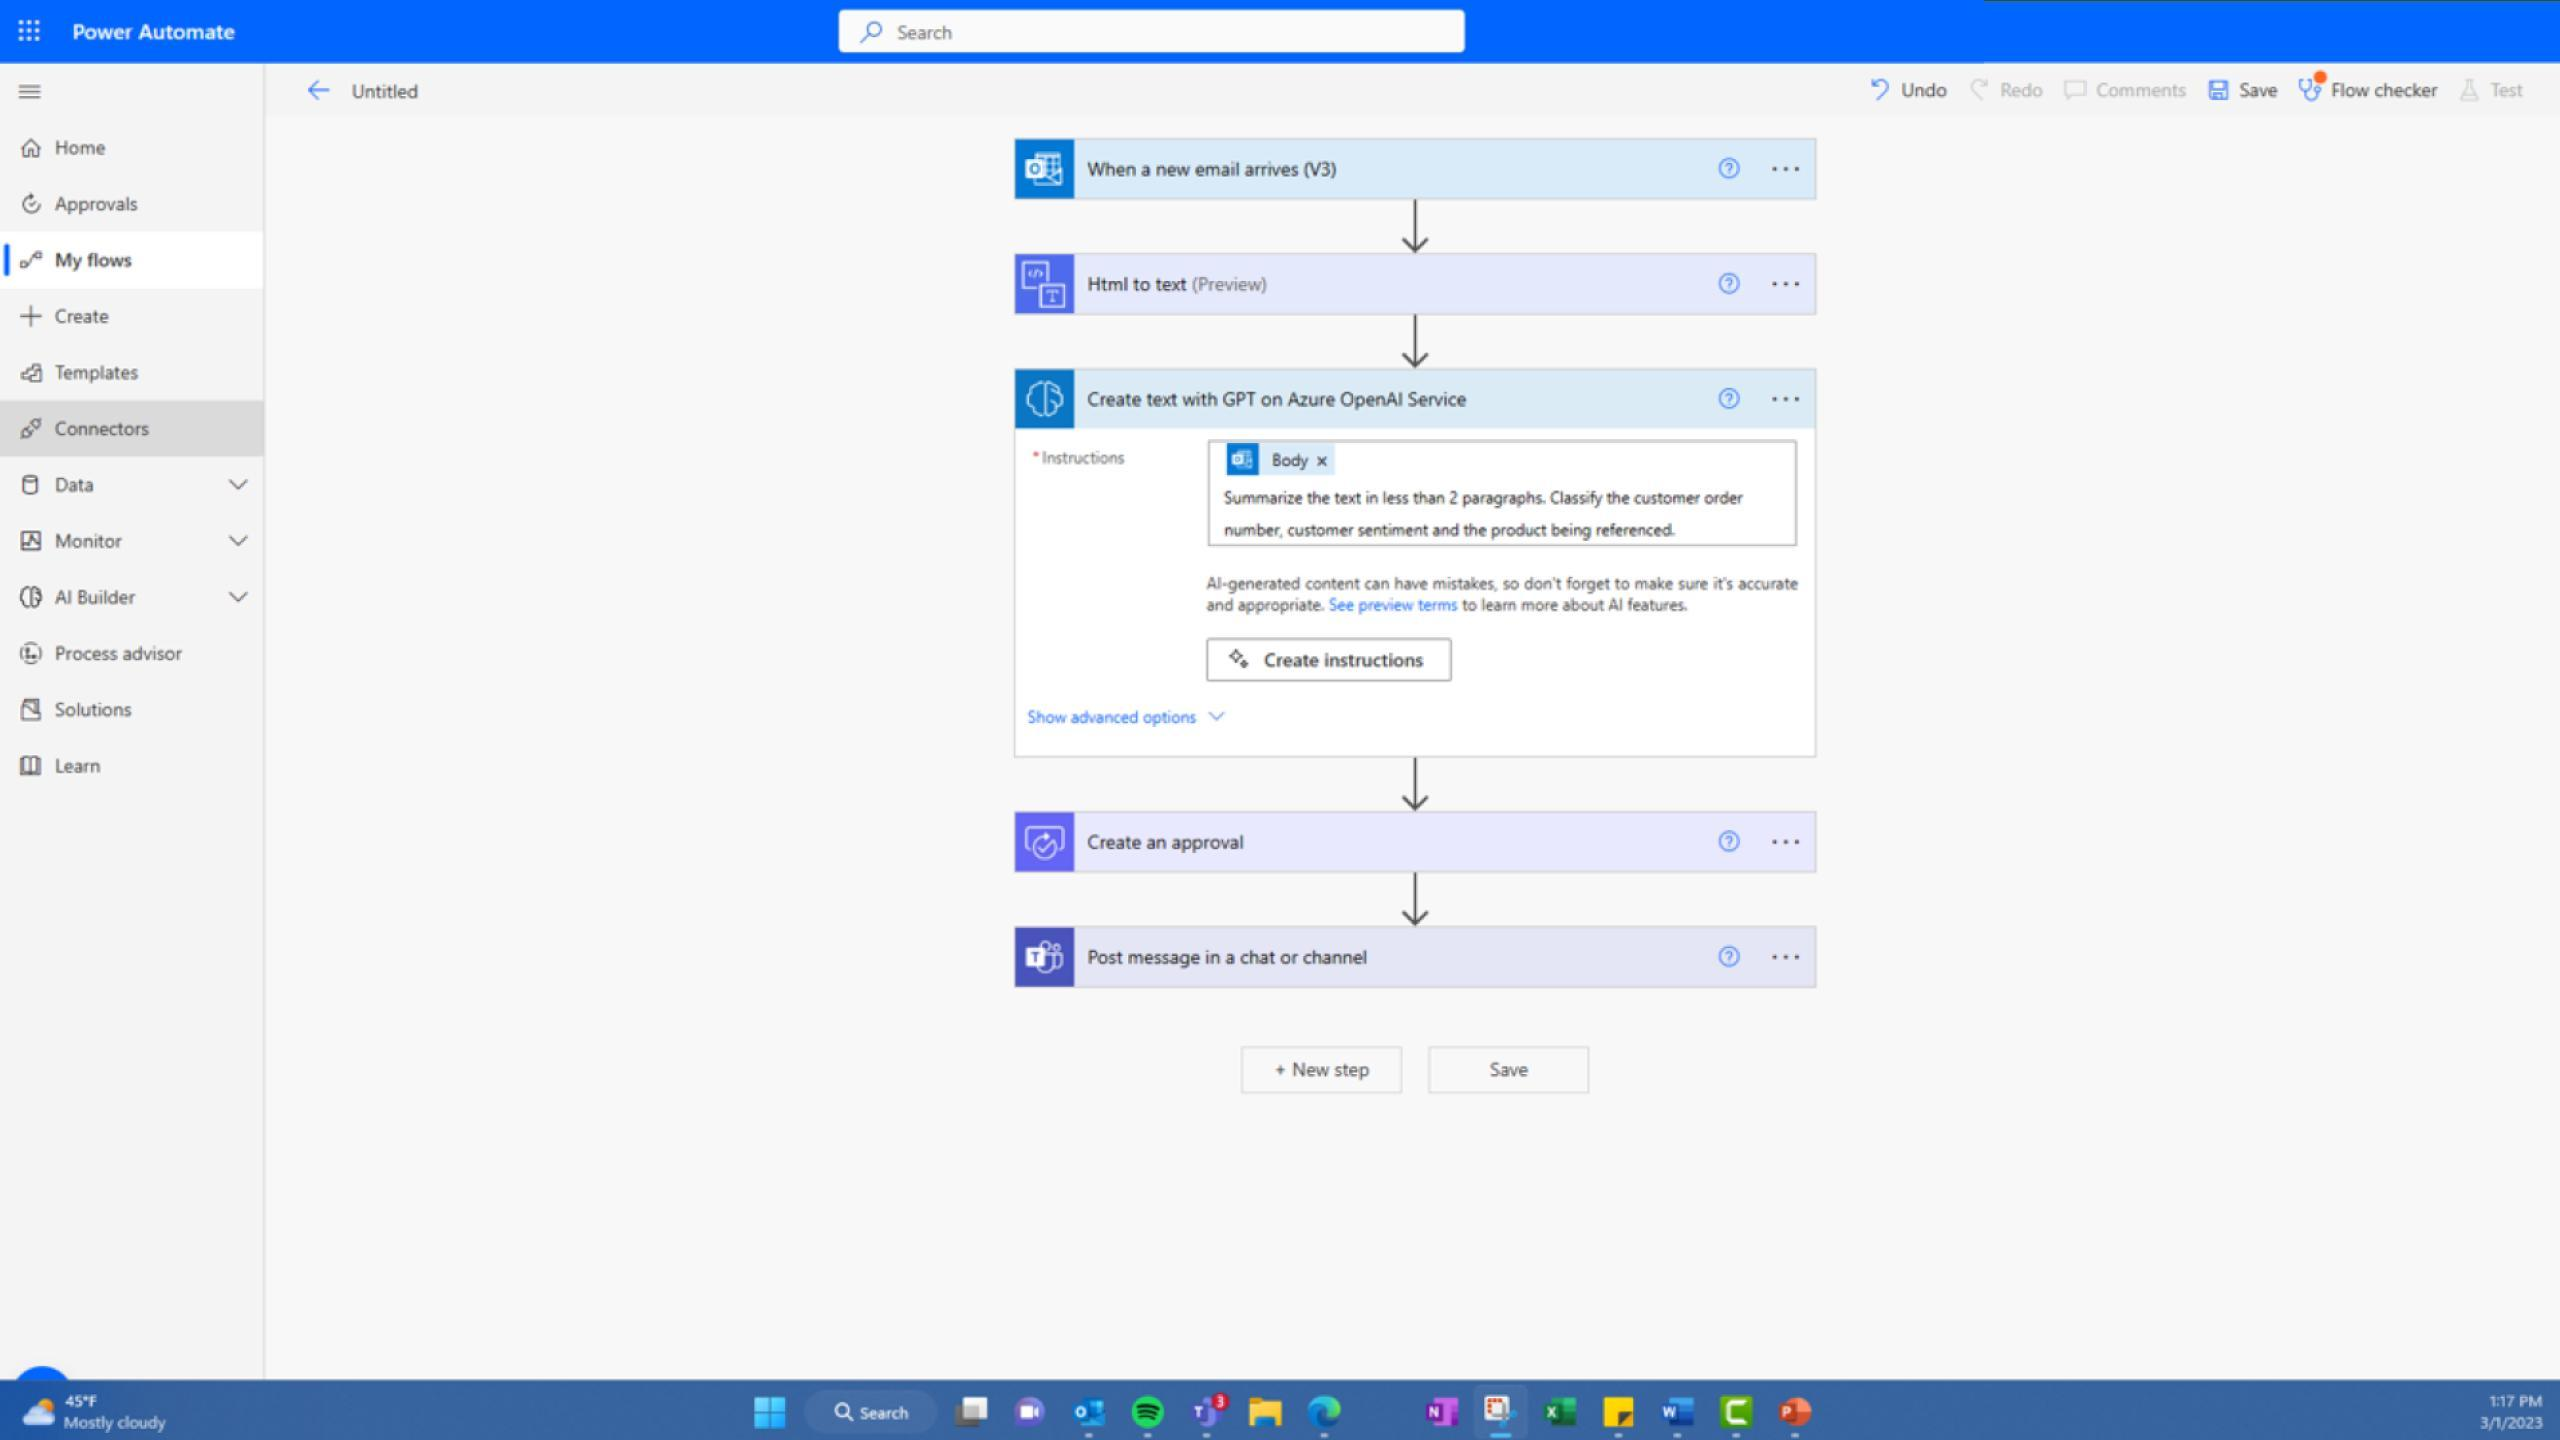button: (2, 399, 265, 457), (2, 232, 264, 288), (1206, 638, 1456, 684), (1428, 1046, 1591, 1097), (1241, 1044, 1407, 1094)
dropdown: (51, 471, 258, 498), (55, 527, 253, 554), (56, 585, 255, 607)
icon: (1718, 269, 1748, 302), (16, 584, 47, 614), (16, 527, 47, 557), (14, 18, 46, 47), (18, 753, 49, 781), (304, 77, 336, 105), (2455, 77, 2484, 105), (19, 696, 47, 726), (19, 638, 47, 668), (18, 302, 46, 331), (19, 362, 49, 389), (1720, 826, 1742, 860), (1718, 942, 1744, 971), (2062, 79, 2091, 105), (1720, 385, 1744, 415), (2300, 74, 2324, 104), (16, 81, 46, 105), (1769, 949, 1806, 969), (1771, 160, 1807, 179), (19, 193, 47, 218), (1969, 76, 1992, 105), (21, 135, 46, 162), (19, 475, 47, 498), (1769, 833, 1806, 849), (1771, 280, 1807, 295), (1769, 394, 1806, 410), (2208, 79, 2231, 104), (1716, 158, 1742, 179), (1871, 77, 1892, 104)
input: (840, 11, 1465, 53)
label: (55, 644, 188, 666), (56, 360, 148, 389), (2331, 81, 2442, 100), (53, 195, 146, 216), (56, 700, 137, 723), (2096, 81, 2189, 100), (55, 304, 114, 331), (55, 137, 111, 162), (1899, 79, 1952, 104), (56, 754, 107, 779), (2238, 79, 2282, 104), (2003, 83, 2045, 104), (2491, 81, 2528, 102)
